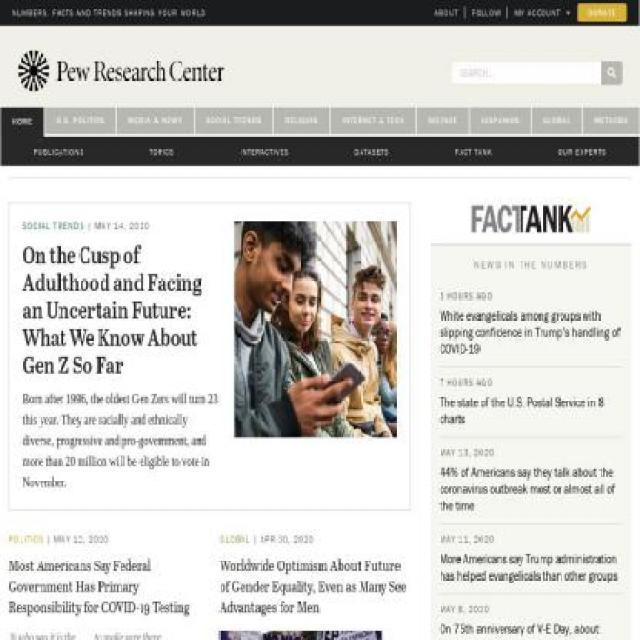button: (234, 220, 397, 438), (18, 50, 225, 96), (439, 306, 623, 357), (439, 462, 623, 513), (430, 202, 632, 233), (439, 392, 623, 426), (439, 549, 623, 583), (439, 619, 623, 639), (330, 106, 416, 136), (194, 106, 274, 136), (116, 106, 195, 136), (45, 106, 117, 136), (468, 106, 532, 136), (272, 106, 331, 136), (581, 107, 640, 136), (416, 106, 470, 136), (531, 106, 583, 136), (0, 106, 45, 139), (577, 3, 628, 23), (33, 145, 84, 158), (240, 145, 288, 158), (559, 145, 606, 158), (454, 145, 492, 158), (354, 145, 389, 158), (472, 7, 508, 19), (434, 7, 466, 19), (149, 145, 174, 158), (219, 631, 221, 632)
field: (451, 60, 623, 86)
